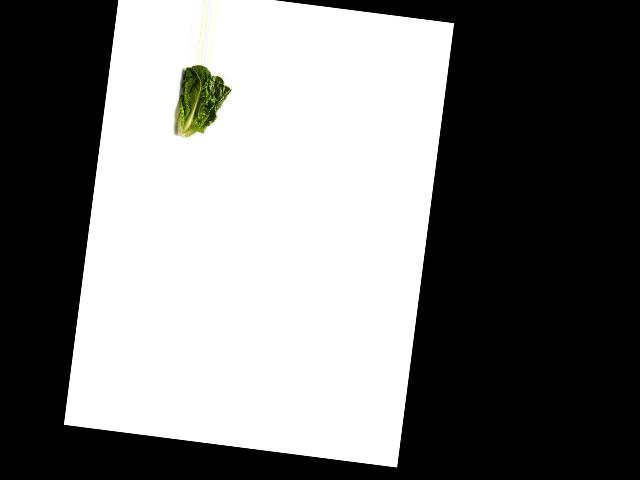lettuce: (163, 61, 234, 145)
